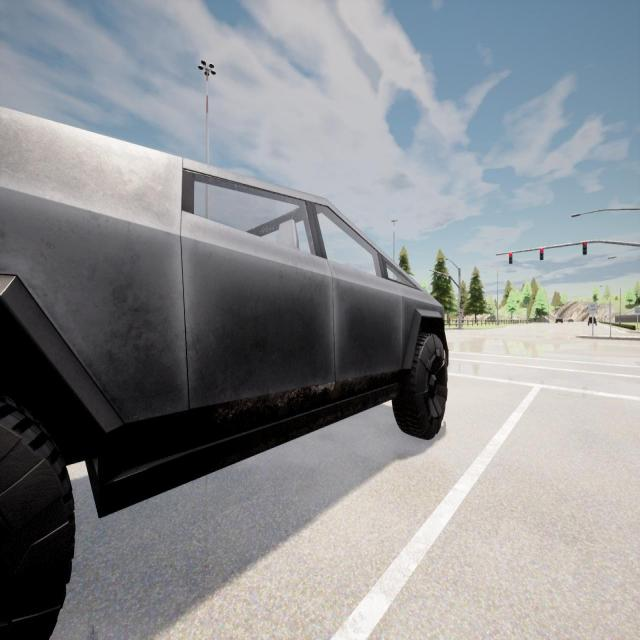Traffic_Signs: (588, 302, 597, 314), (635, 306, 640, 316), (459, 310, 463, 316)
Vehicle: (0, 108, 448, 637), (587, 316, 598, 326), (555, 316, 563, 324), (566, 318, 574, 322)
traffic_light: (583, 242, 587, 255), (509, 252, 513, 264), (434, 272, 438, 282), (540, 248, 543, 260), (441, 275, 444, 284), (448, 277, 450, 285)
